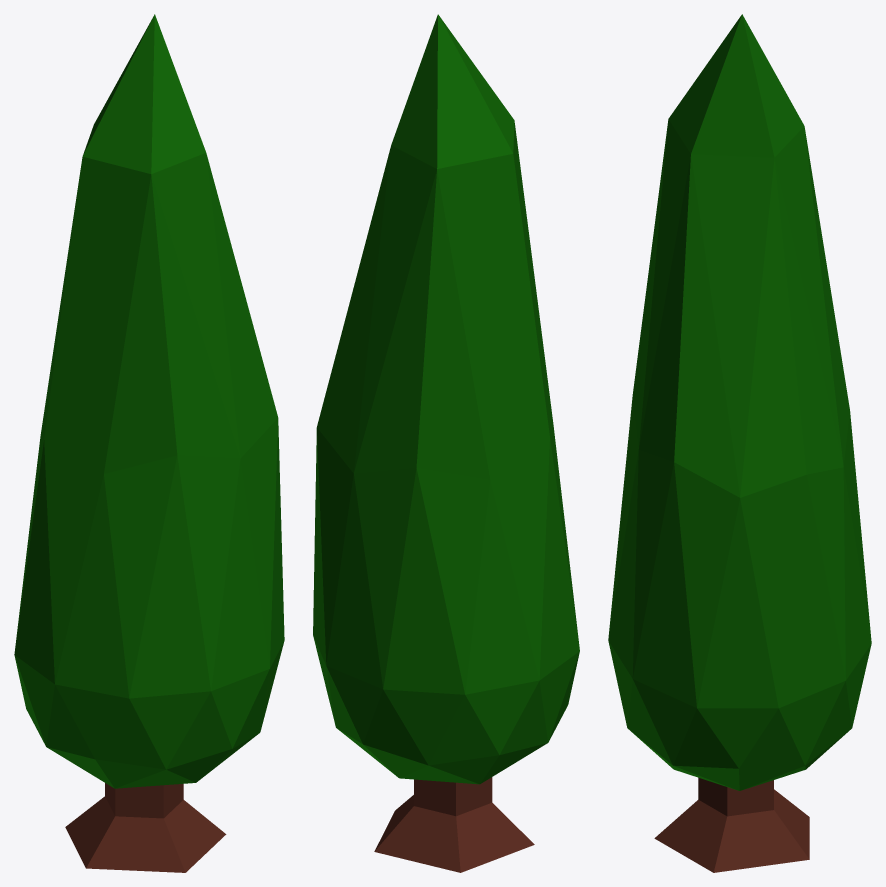
Rendered from tree3.fbx.
3 renders of one model, left to right at view 1: azimuth 30°, elevation 25°; view 2: azimuth 150°, elevation 25°; view 3: azimuth 270°, elevation 25°, orthographic.
Parts seen in each view (by area): view 1: Tree7.004; view 2: Tree7.004; view 3: Tree7.004.
Boxes of the visible parts, x1,y1,x2,y2 form: Tree7.004: [14, 14, 284, 872]; Tree7.004: [313, 14, 579, 872]; Tree7.004: [608, 14, 871, 872].
Size of the model in its own units: 5.51 by 18.99 by 5.46.
